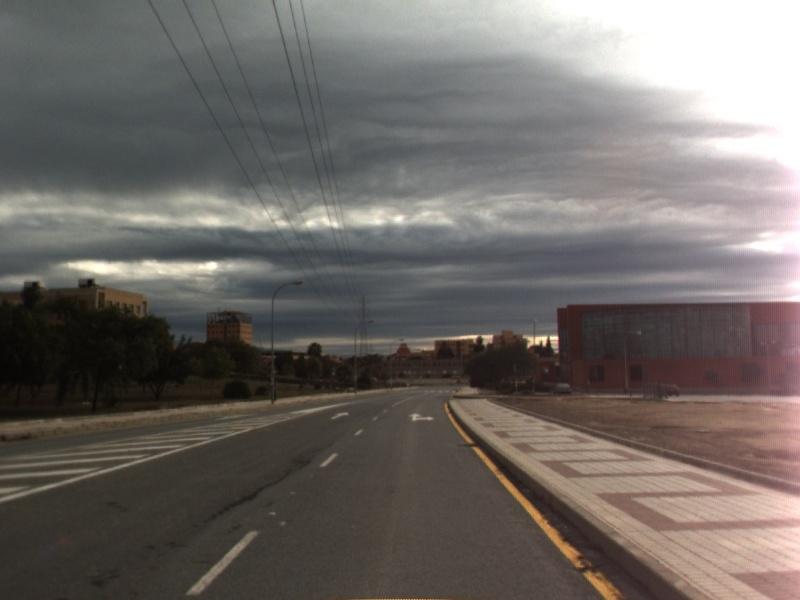STRAIGHT: (328, 409, 351, 421)
STRAIGHT_RIGHT: (406, 411, 437, 424)
